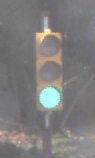Green: (34, 32, 63, 110)
